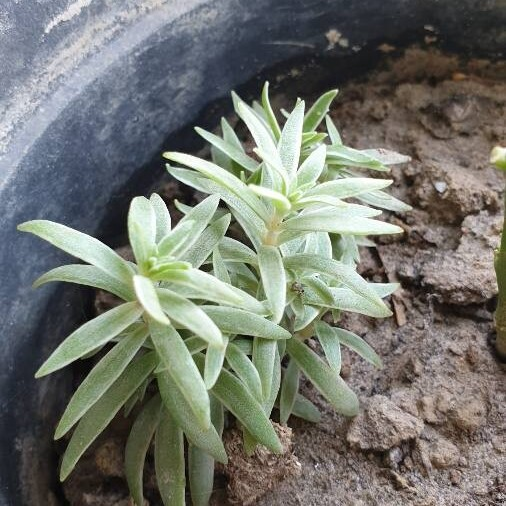obstacle: (33, 90, 367, 477)
